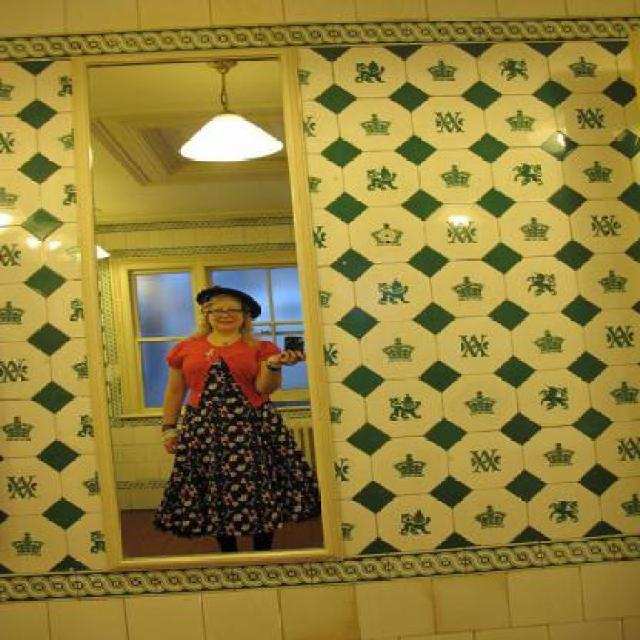Person: (148, 285, 317, 553)
